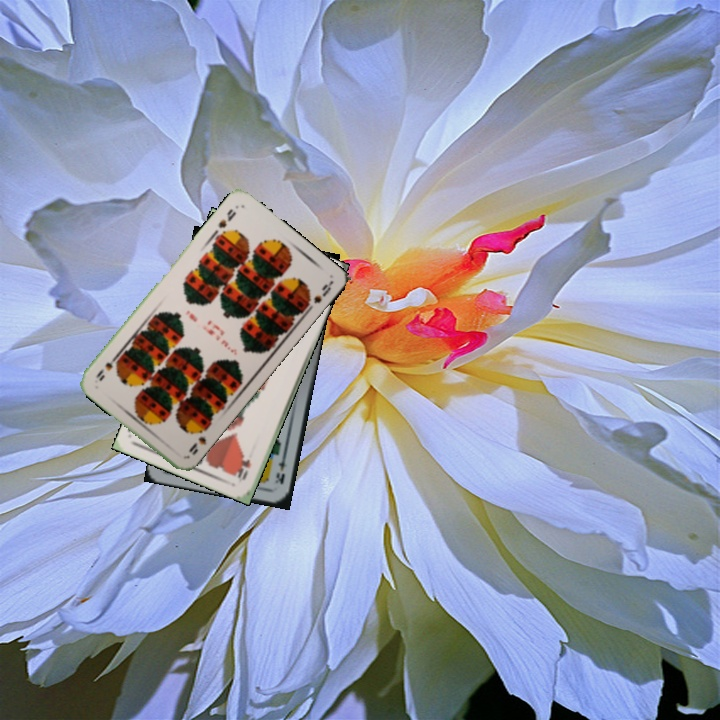EK: (271, 451, 289, 487)
HO: (234, 455, 253, 484)
S9: (185, 423, 211, 458), (214, 205, 239, 231)
